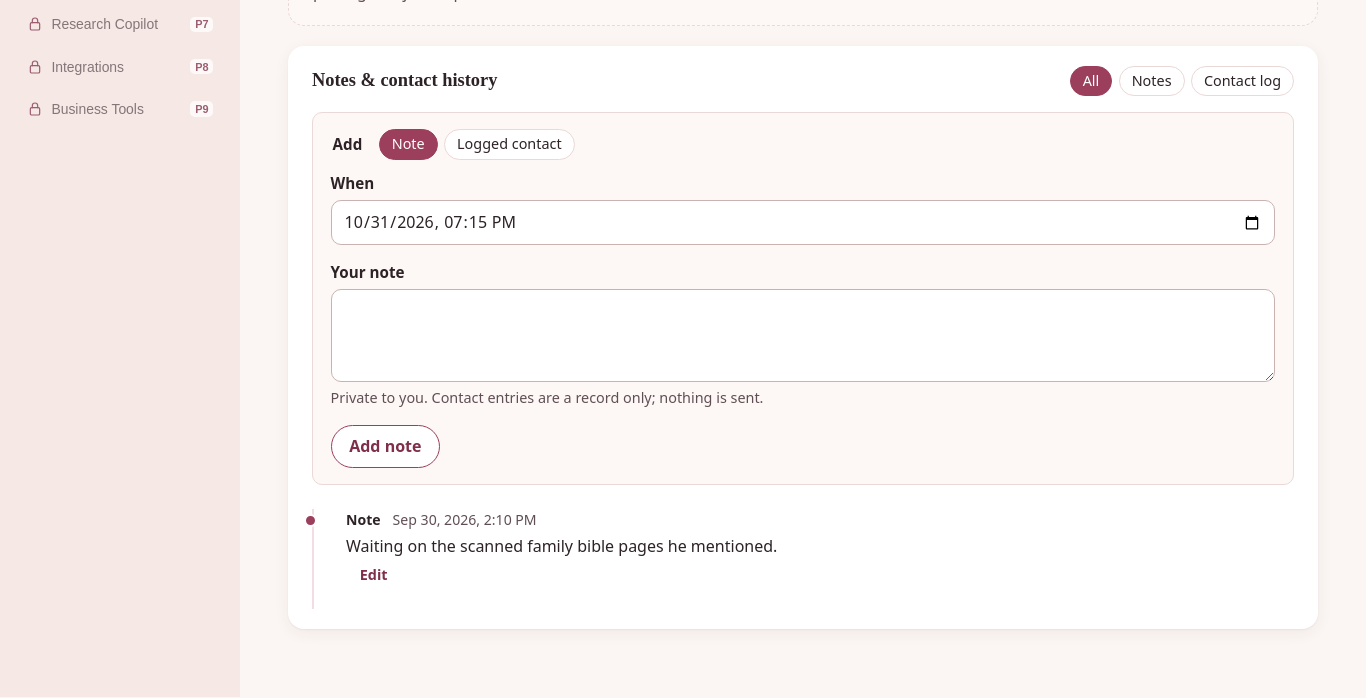
Test: notes and contact history › asks before discarding an edit, and keeps the text if you go back
(page scrolled)
Check: the text "Waiting on the scanned family bible pages he mentioned." is shown, box [346,535,777,557]
Click the button with aria-label "Edit note from" at (374, 575), box [346,559,401,591]
(page scrolled)
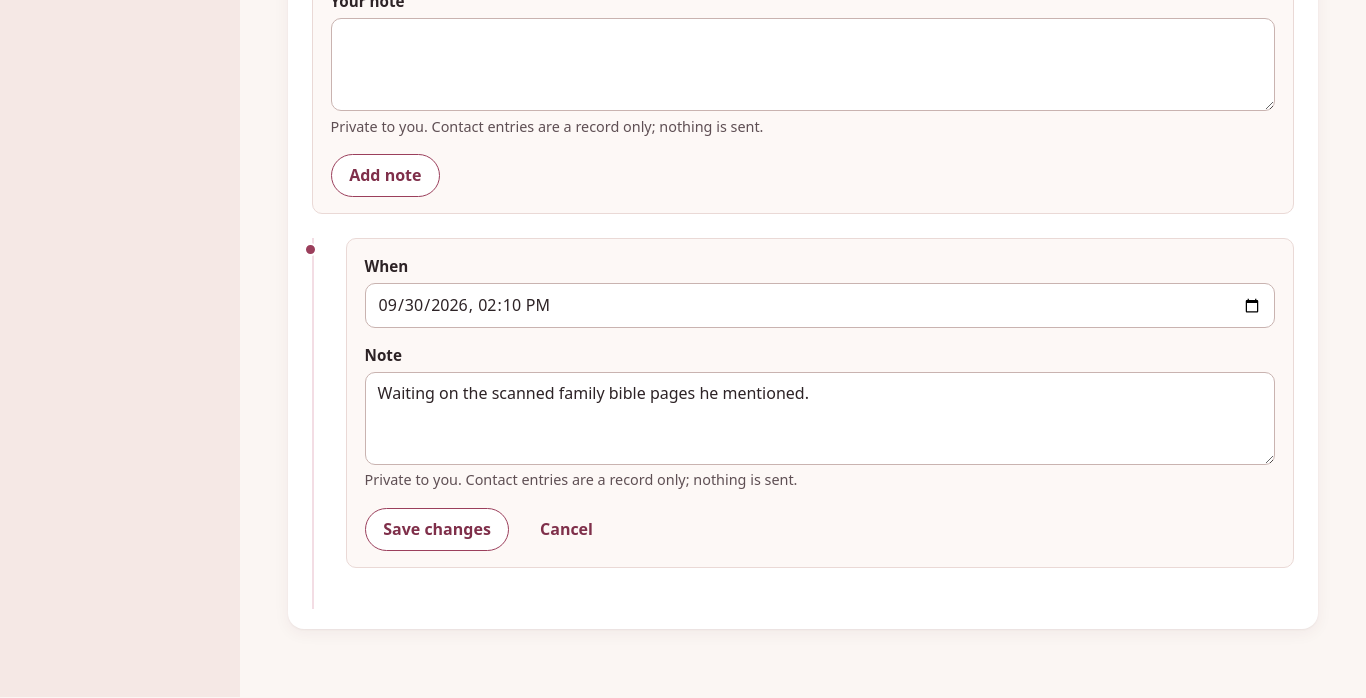
Replace the text in the text box labelled "Note" with "Half-written change" at (820, 418), box [365,372,1275,465]
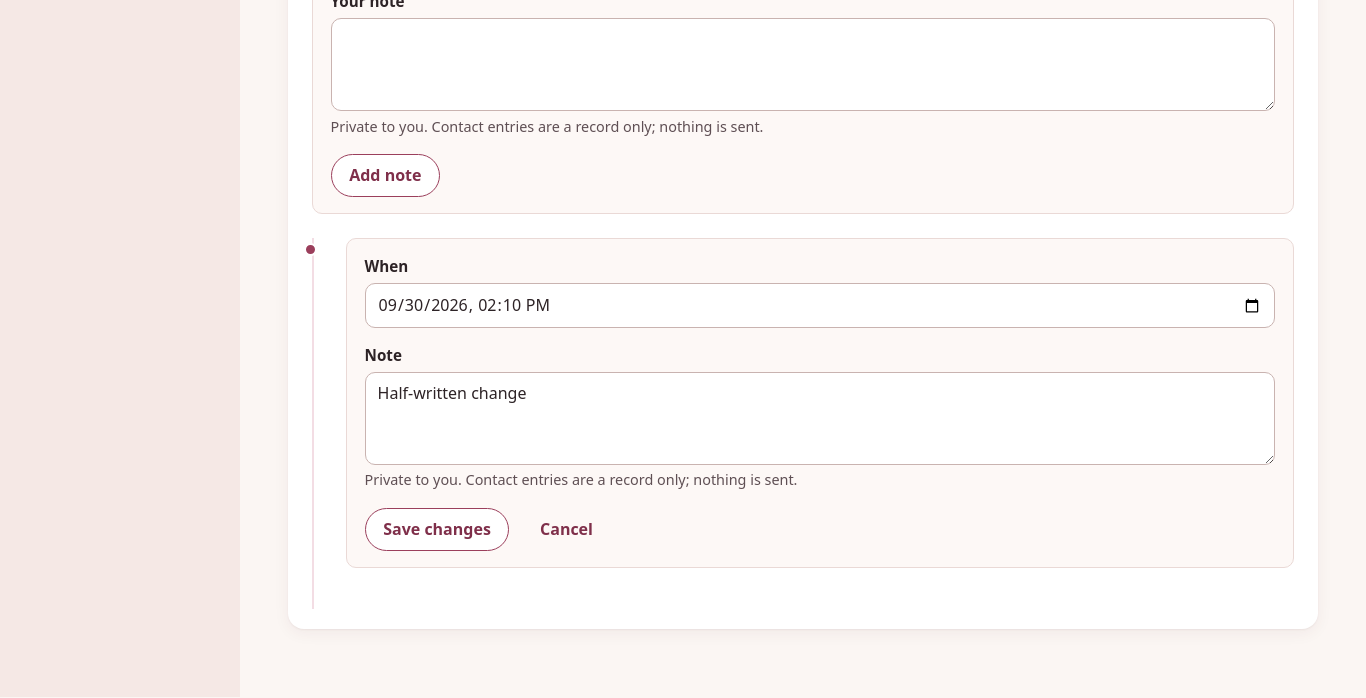
Click the button "Cancel" at (566, 529), box [521,508,612,551]
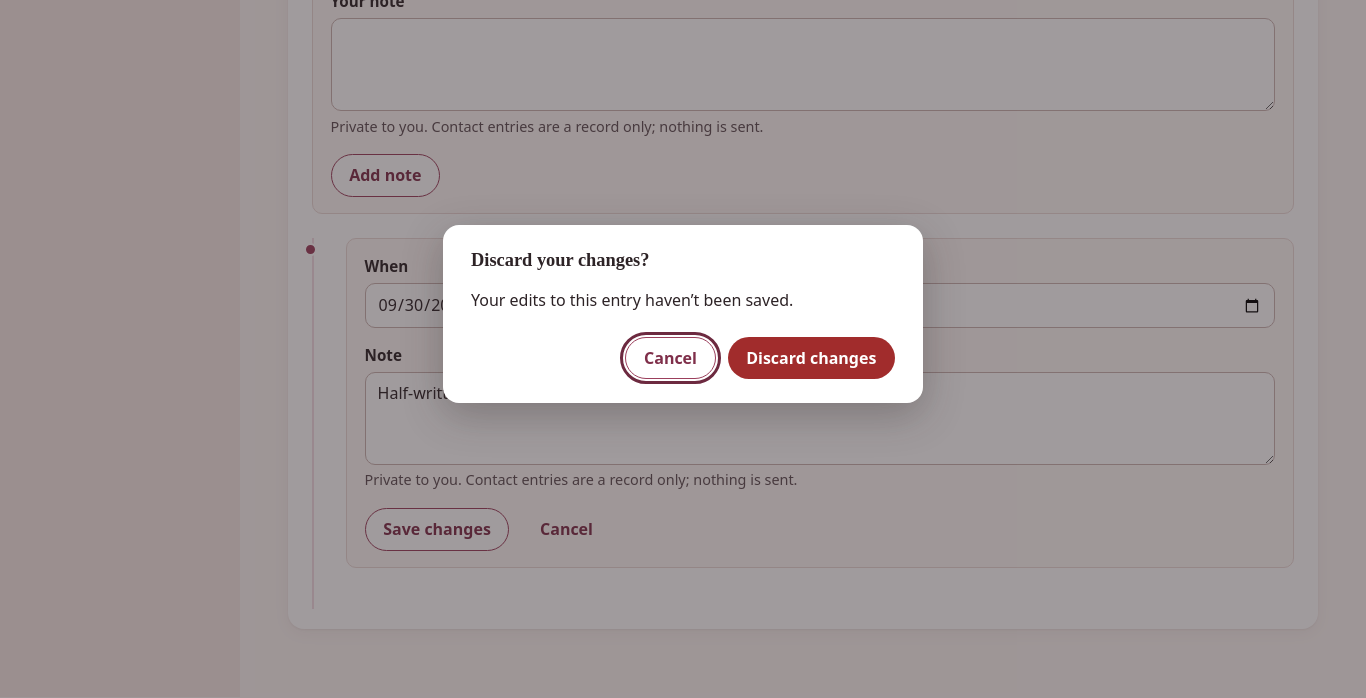
Click the button "Cancel" at (670, 358), box [625,336,716,379]
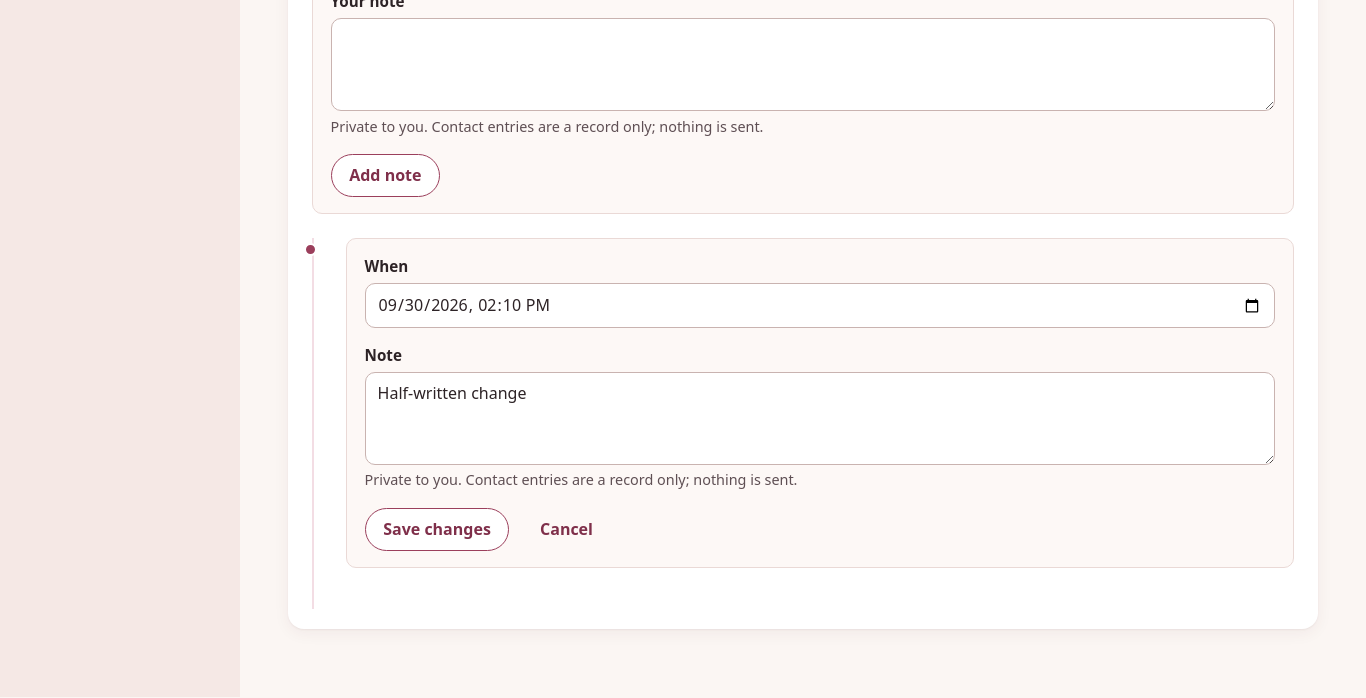
Click the button "Cancel" at (566, 529), box [521,508,612,551]
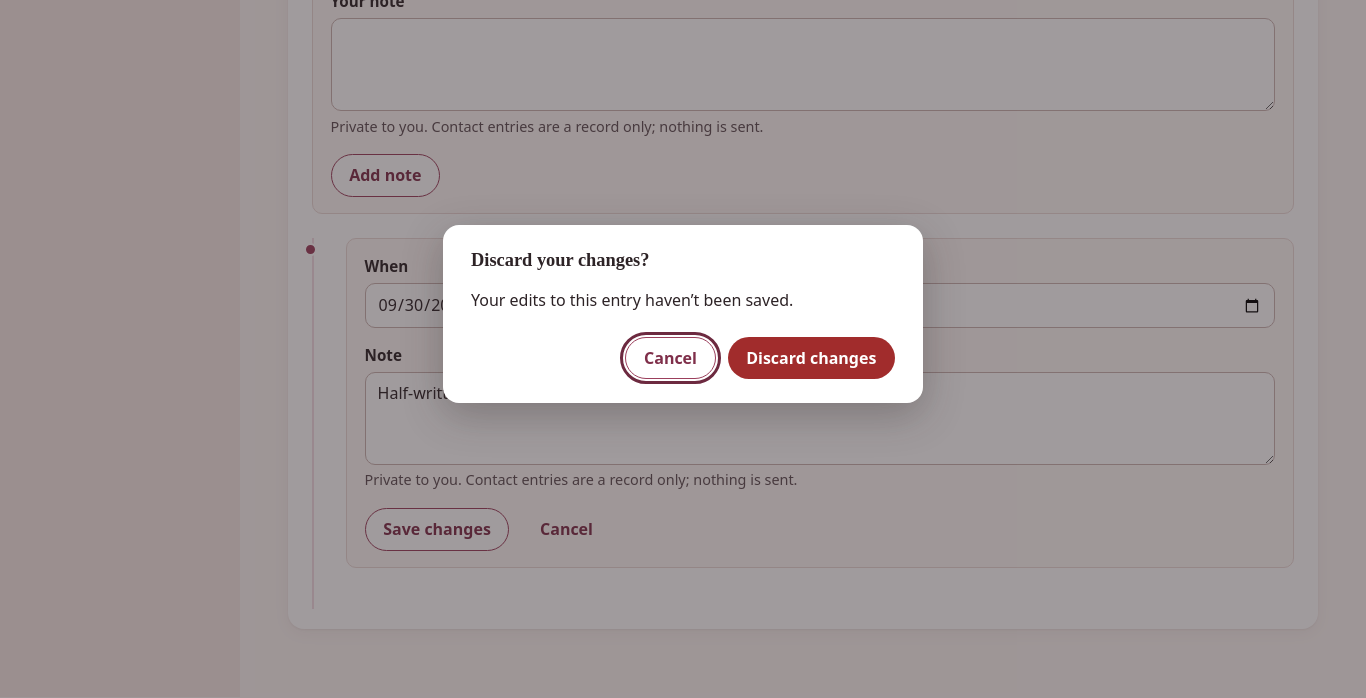
Click the button "Discard changes" at (811, 358), box [728,336,895,379]
(page scrolled)
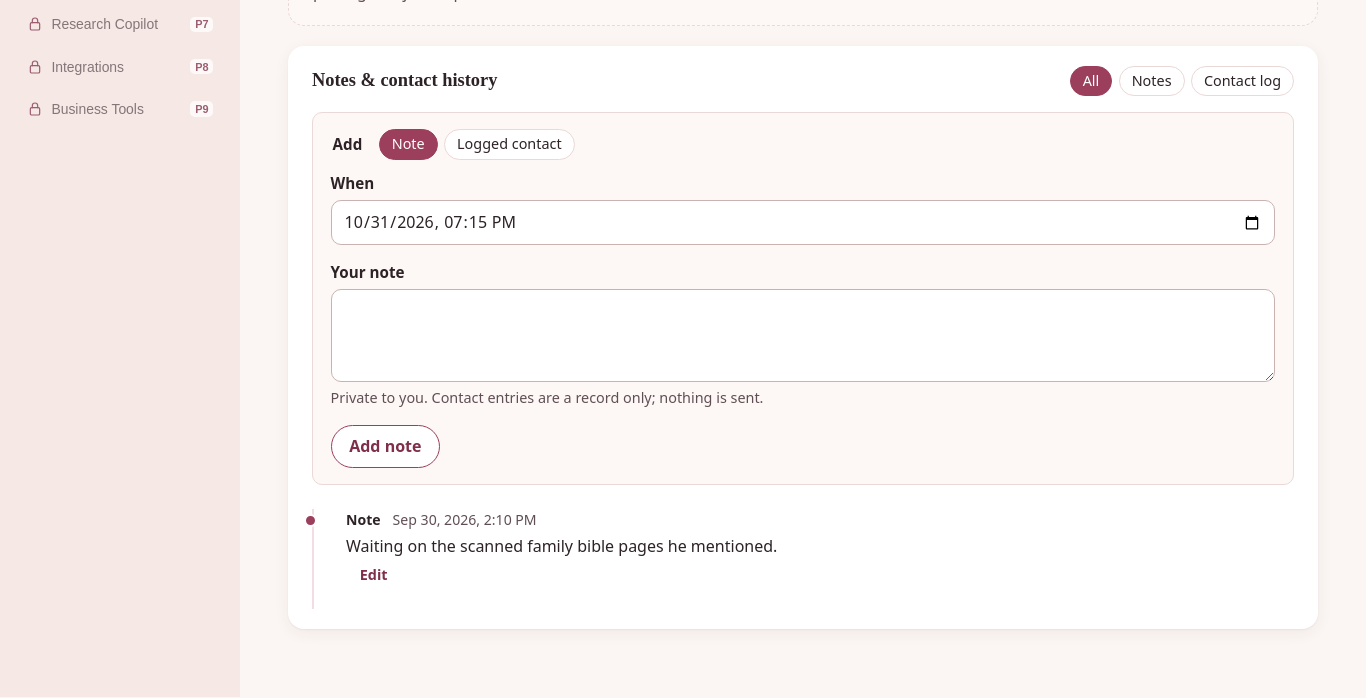
Check: the text "Waiting on the scanned family bible pages he mentioned." is shown, box [346,535,777,557]
